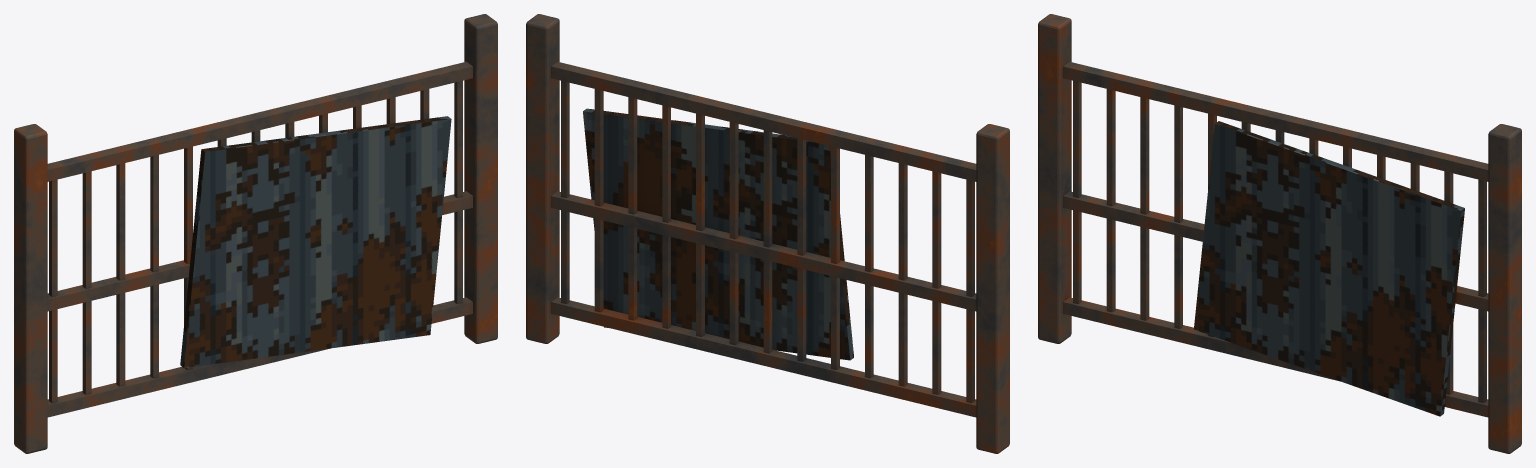
File: city_fence.glb
3 views of the same model, side by side, from view 1: azimuth 30°, elevation 25°; view 2: azimuth 150°, elevation 25°; view 3: azimuth 330°, elevation 25° (orthographic).
Visible parts, largest first — view 1: city_fence; view 2: city_fence; view 3: city_fence.
Part boxes in pixels (<box>): city_fence: <box>14,14,497,453</box>; city_fence: <box>526,14,1009,453</box>; city_fence: <box>1038,14,1521,453</box>.
Size of the model in its own units: 2.1 by 1.35 by 0.105.
Materials: 2 (2 with a texture image).
